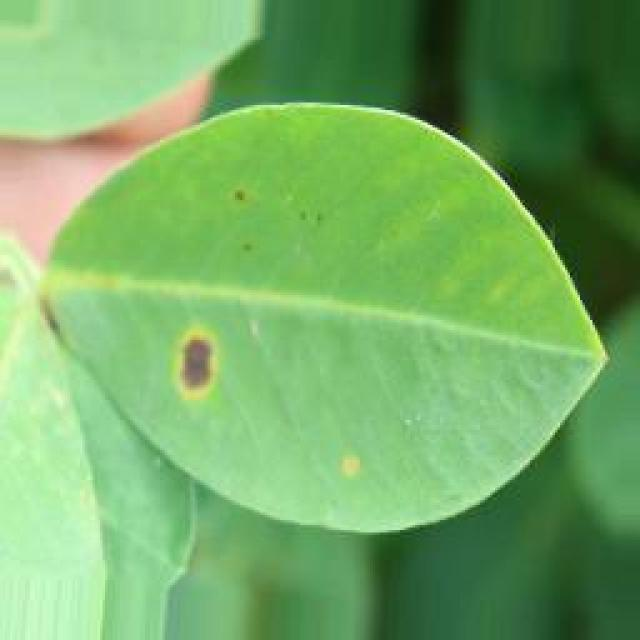Early_leaf_spot: (189, 155, 342, 273), (154, 301, 242, 401), (313, 424, 379, 494)
